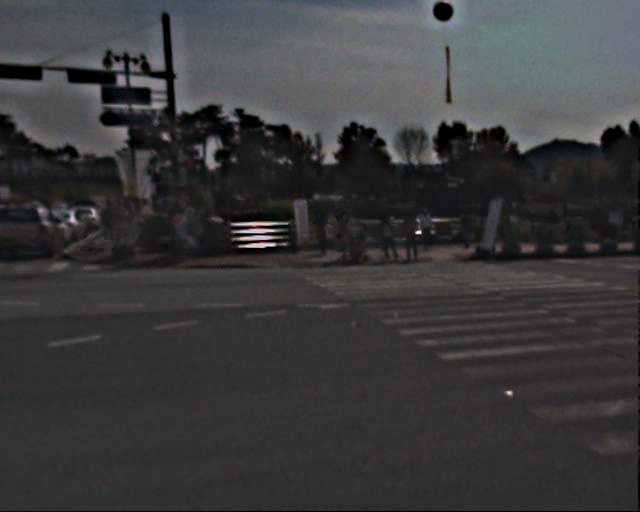person: (339, 204, 363, 263), (103, 202, 135, 245), (177, 206, 198, 258), (406, 212, 427, 263), (384, 214, 405, 264), (422, 205, 442, 254), (320, 212, 338, 256)
